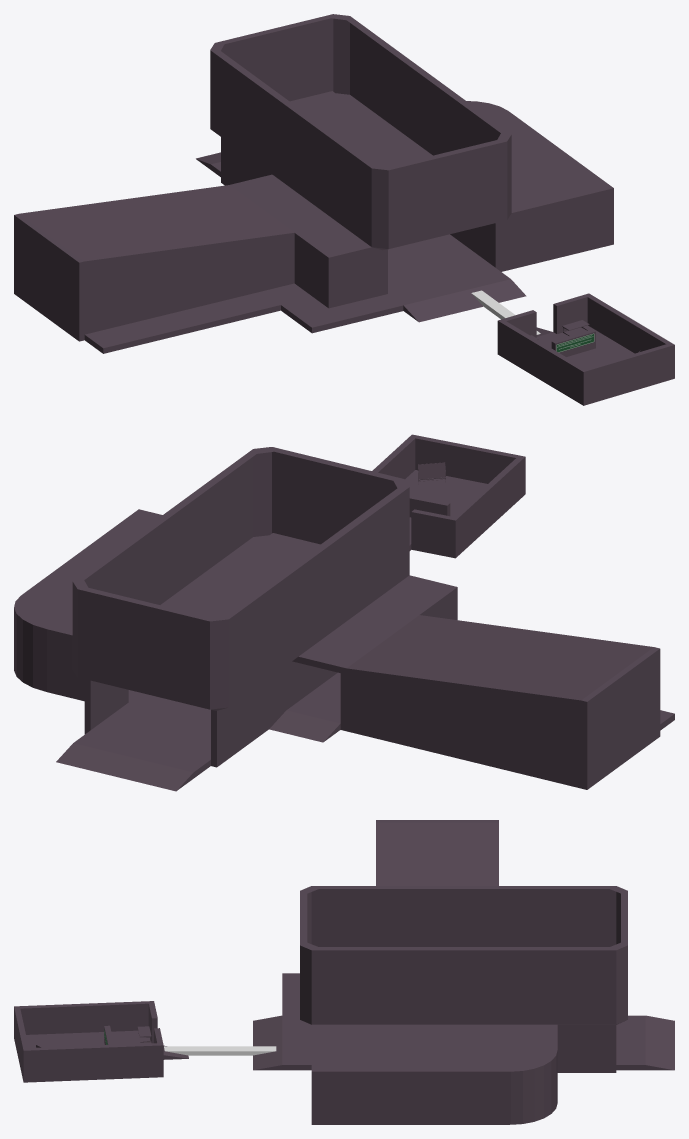
The model's file is Atrium.glb.
3 views of the same model, one above another, from view 1: azimuth 30°, elevation 25°; view 2: azimuth 150°, elevation 25°; view 3: azimuth 270°, elevation 25° (orthographic). The views are drawn at different scales.
Visible parts, largest first — view 1: hall-col, floor-col; view 2: hall-col, floor-col; view 3: hall-col, floor-col, temp_bridge.
Part boxes in pixels (x1,y1,x2,y2): hall-col: [14, 14, 613, 353]; floor-col: [497, 293, 674, 405]; hall-col: [14, 447, 674, 791]; floor-col: [372, 434, 525, 558]; hall-col: [253, 820, 674, 1124]; floor-col: [14, 1001, 188, 1082]; temp_bridge: [164, 1046, 276, 1055].
Size of what is drawn, in the model's own units: 93 by 24 by 113.
Materials: 2 (1 with a texture image).
